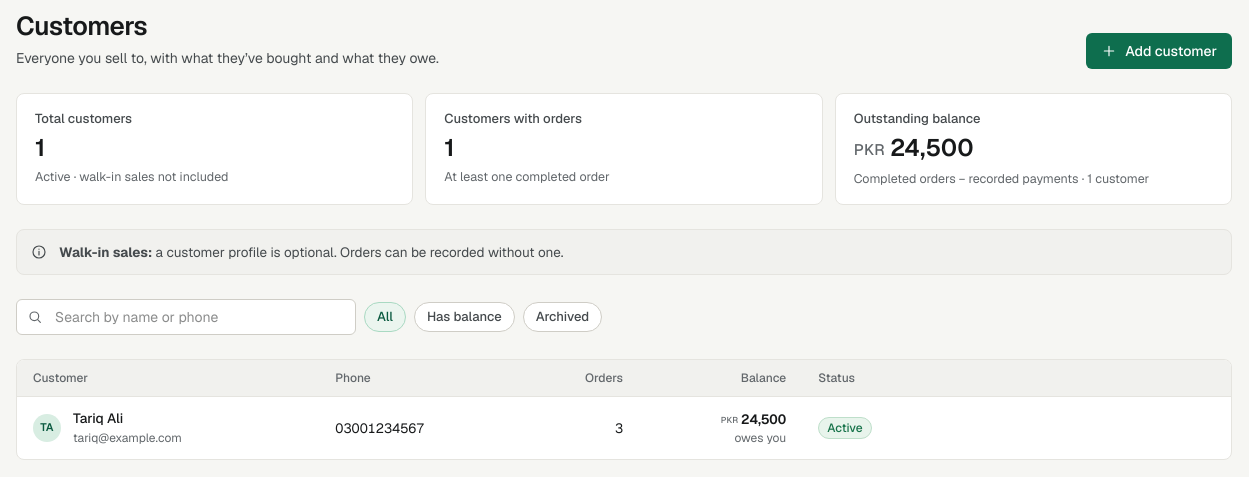
Test: Customer Frontend Slice (CUS-003) › CustomerView (R5 design) › searches on the server and shows archived customers on demand
Expected: the table is shown, [17,360,1231,459]
Type "tariq" into the field named "Search customers" at (199, 317), box [43,300,355,334]
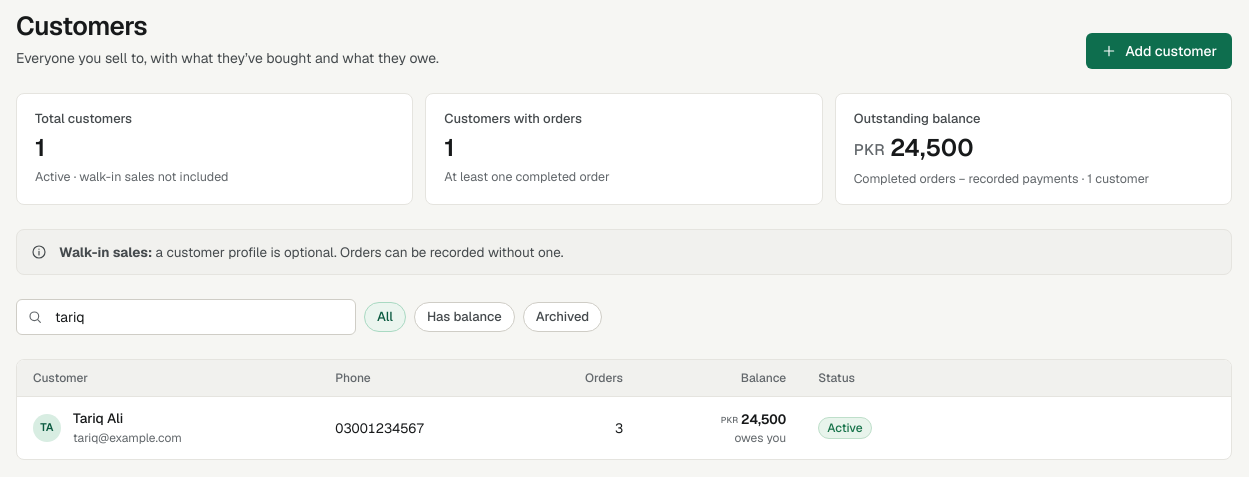
Clear the field named "Search customers" at (199, 317), box [43,300,355,334]
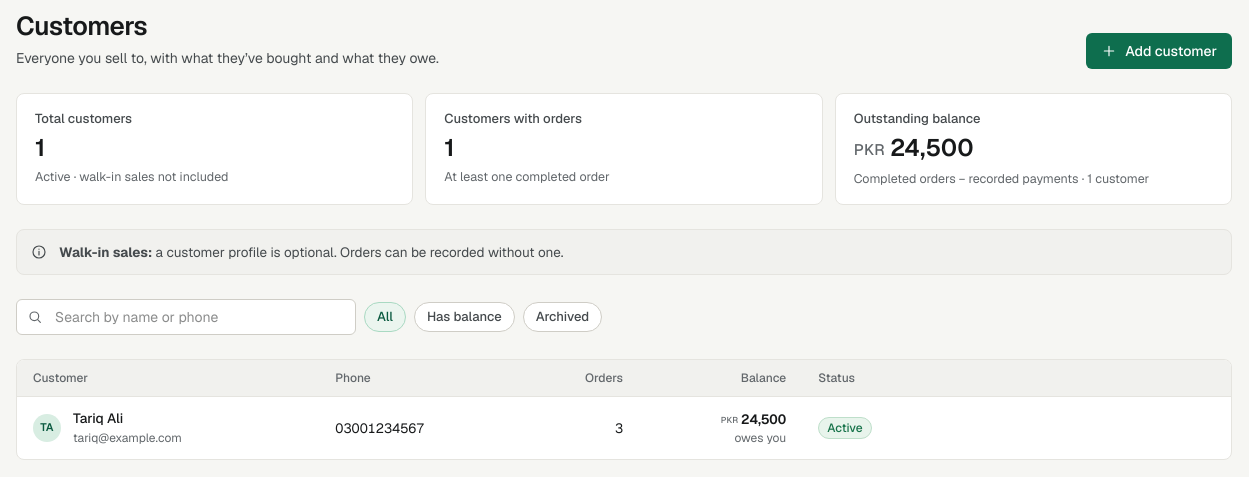
Click the button "Archived" at (563, 317), box [523,302,602,332]
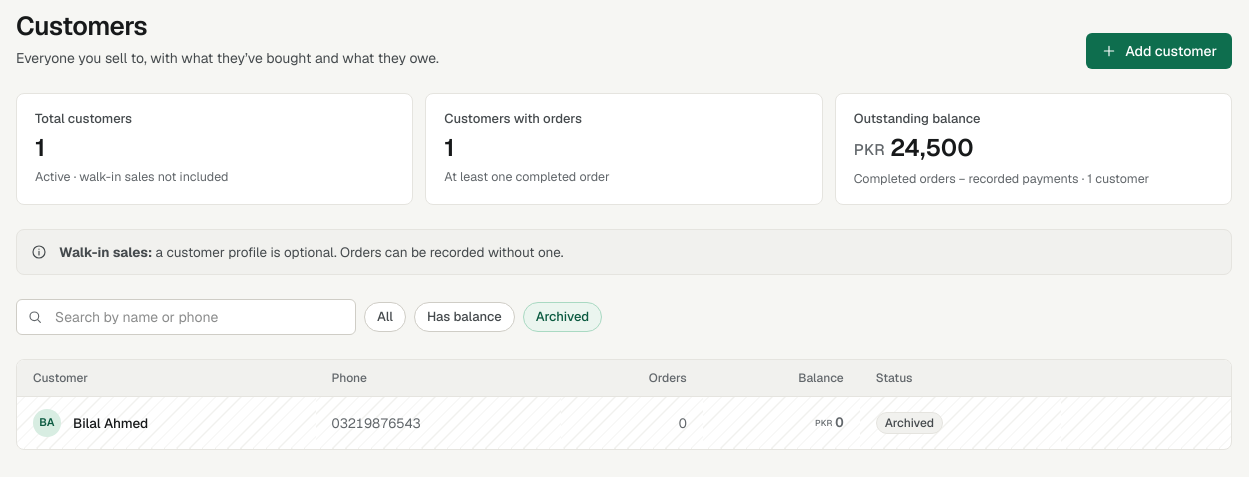
Expected: the table shows "Bilal Ahmed", [73,413,148,433]
